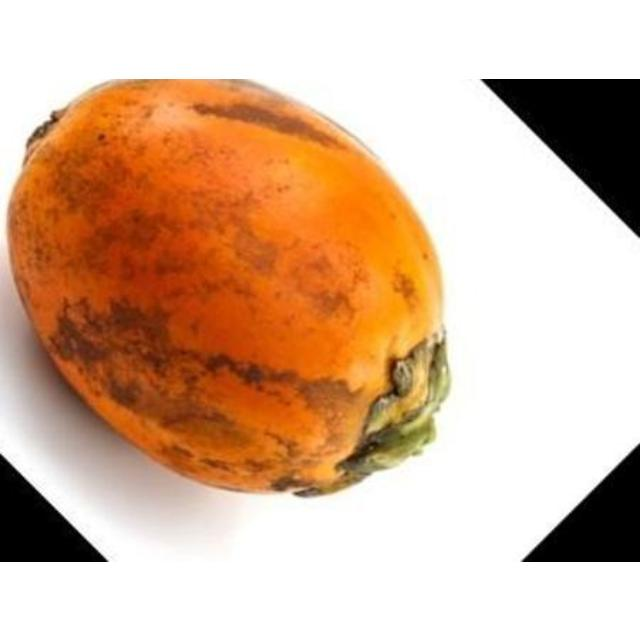good: (7, 78, 452, 498)
